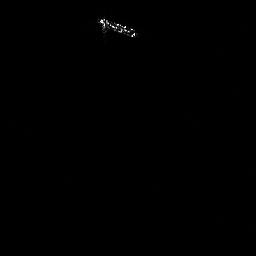ship: (96, 15, 140, 41)
